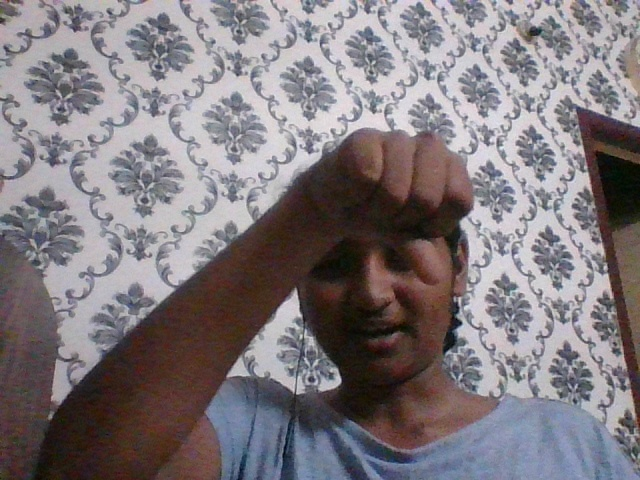yes: (325, 117, 483, 291)
